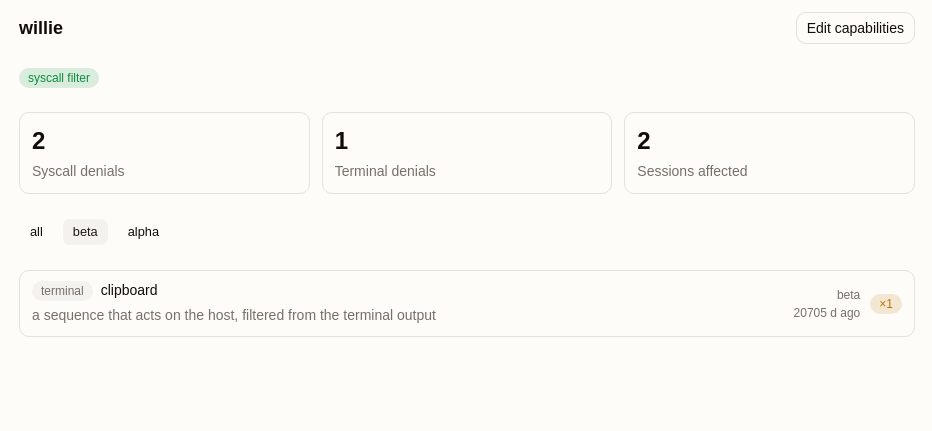
Test: SandboxScreen › the_screen_filters_the_history_by_session_and_preselects_from_the_query
Expected: the text "clipboard" is shown, [101,282,158,298]
Expected: the text "ptrace" is not shown
What coordinates should you click on to do the following:
click the button "all"
I would click on:
 (36, 232)
Its box is [19,218,54,246].
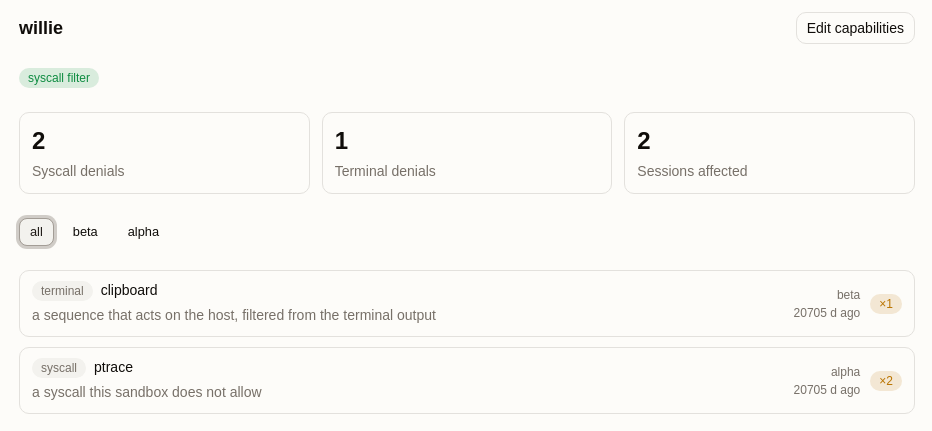
Expected: the text "clipboard" is shown, [101,282,158,298]
Now the text "ptrace" is shown, box [94,359,133,375]
